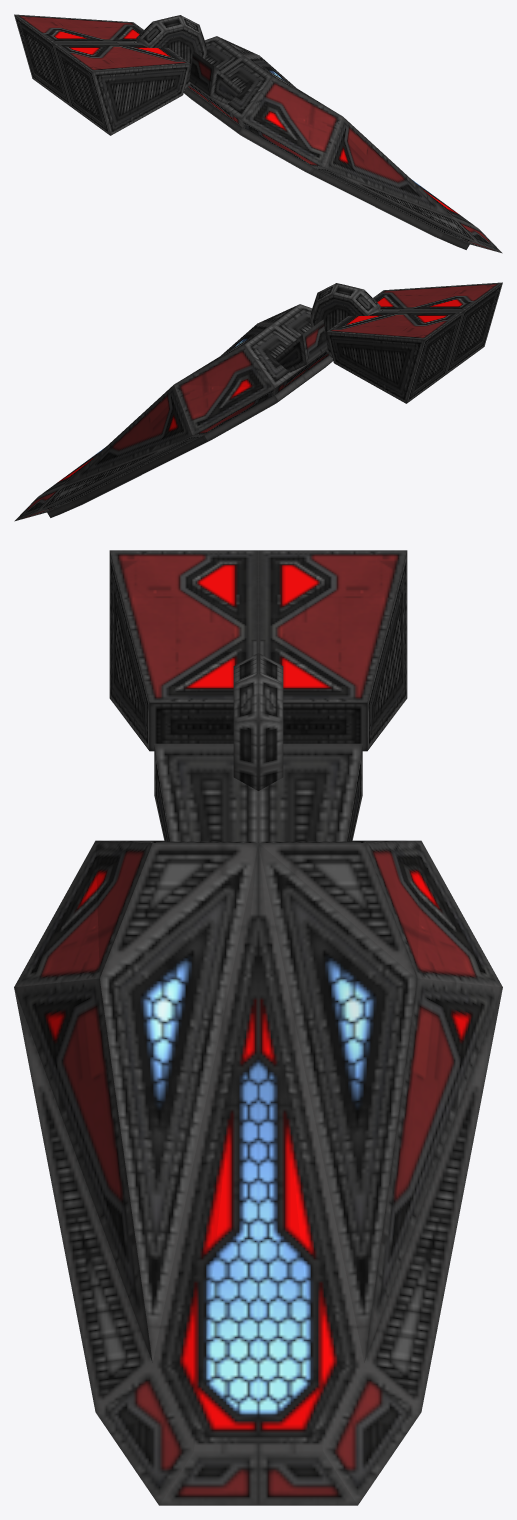
Rendered from BFP_SB_SolarArrayArm01.FBX.
3 views of the same model, one above another, from view 1: azimuth 30°, elevation 25°; view 2: azimuth 150°, elevation 25°; view 3: azimuth 270°, elevation 25° (orthographic). The views are drawn at different scales.
Visible parts, largest first — view 1: SolarArray01, BFP_SB_SolarArrayArm01, ArmRotator01; view 2: SolarArray01, BFP_SB_SolarArrayArm01, ArmRotator01; view 3: SolarArray01, BFP_SB_SolarArrayArm01, ArmRotator01.
Boxes of the visible parts, left/top/right/bottom form: SolarArray01: left=183, top=36, right=502, bottom=253; BFP_SB_SolarArrayArm01: left=14, top=14, right=190, bottom=135; ArmRotator01: left=136, top=15, right=206, bottom=89; SolarArray01: left=14, top=304, right=333, bottom=521; BFP_SB_SolarArrayArm01: left=326, top=282, right=502, bottom=403; ArmRotator01: left=310, top=283, right=380, bottom=357; SolarArray01: left=14, top=743, right=502, bottom=1505; BFP_SB_SolarArrayArm01: left=109, top=550, right=407, bottom=751; ArmRotator01: left=233, top=653, right=283, bottom=790.
Bounding box in the file's own units: 1453 × 966 × 762.
Materials: 1 (1 with a texture image).
